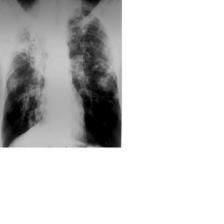tuberculosis: (0, 0, 121, 148)
